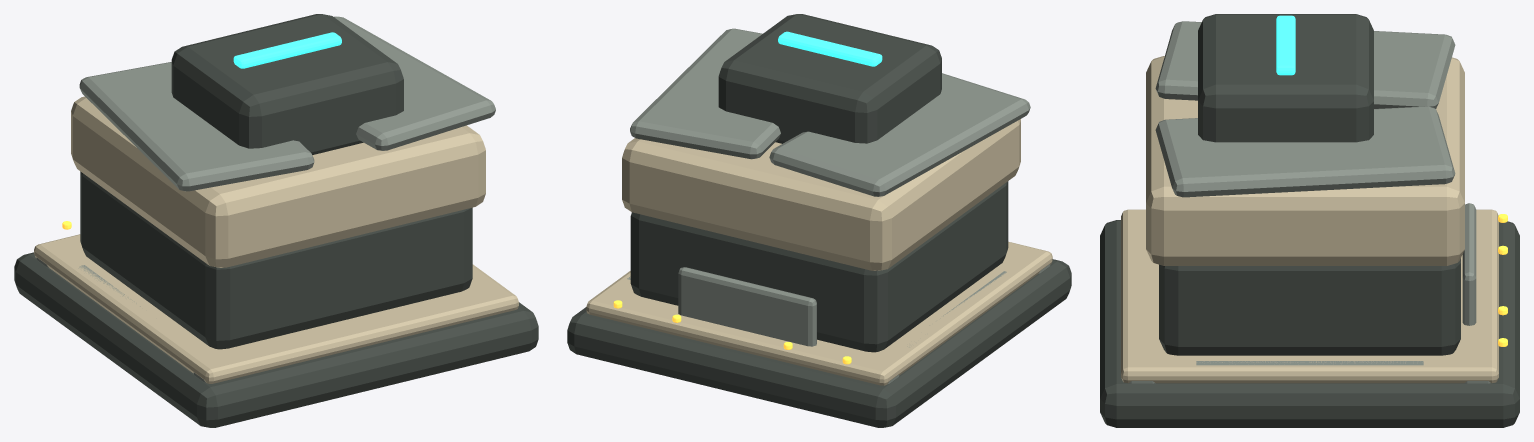
The model's file is core.glb.
3 renders of one model, left to right at view 1: azimuth 30°, elevation 25°; view 2: azimuth 150°, elevation 25°; view 3: azimuth 270°, elevation 25°, orthographic. The views are drawn at different scales.
Visible parts, largest first — view 1: Angled ceramic armor shell, Command bunker lower hull, Layered armored foundation, Raised armored command citadel, Ceramic foundation cap, Command roof wing left, Command roof wing right, Roof command light; view 2: Angled ceramic armor shell, Command bunker lower hull, Layered armored foundation, Raised armored command citadel, Ceramic foundation cap, Command roof wing left, Command roof wing right, Blast door with inset, Roof command light; view 3: Angled ceramic armor shell, Command bunker lower hull, Layered armored foundation, Raised armored command citadel, Ceramic foundation cap, Command roof wing right, Command roof wing left, Blast door with inset, Roof command light, Segmented side skid.001.
Part boxes in pixels (bbox=[...]): Angled ceramic armor shell: bbox=[71, 96, 485, 267]; Command bunker lower hull: bbox=[80, 171, 472, 349]; Layered armored foundation: bbox=[14, 252, 538, 427]; Raised armored command citadel: bbox=[171, 14, 403, 154]; Ceramic foundation cap: bbox=[34, 234, 518, 383]; Command roof wing left: bbox=[79, 62, 314, 191]; Command roof wing right: bbox=[334, 16, 495, 150]; Roof command light: bbox=[233, 32, 341, 68]; Angled ceramic armor shell: bbox=[622, 119, 1020, 270]; Command bunker lower hull: bbox=[630, 181, 1008, 352]; Layered armored foundation: bbox=[567, 259, 1071, 427]; Raised armored command citadel: bbox=[718, 14, 941, 143]; Ceramic foundation cap: bbox=[586, 241, 1052, 385]; Command roof wing left: bbox=[769, 73, 1030, 196]; Command roof wing right: bbox=[630, 28, 780, 159]; Blast door with inset: bbox=[678, 267, 816, 346]; Roof command light: bbox=[778, 31, 882, 66]; Angled ceramic armor shell: bbox=[1146, 56, 1464, 265]; Command bunker lower hull: bbox=[1159, 258, 1460, 355]; Layered armored foundation: bbox=[1100, 220, 1519, 427]; Raised armored command citadel: bbox=[1198, 14, 1373, 142]; Ceramic foundation cap: bbox=[1121, 209, 1498, 383]; Command roof wing right: bbox=[1155, 106, 1455, 197]; Command roof wing left: bbox=[1155, 21, 1455, 108]; Blast door with inset: bbox=[1462, 203, 1476, 325]; Roof command light: bbox=[1276, 15, 1295, 75]; Segmented side skid.001: bbox=[1196, 361, 1423, 365].
Bounding box in the file's own units: 2.8 × 2.25 × 2.8.
